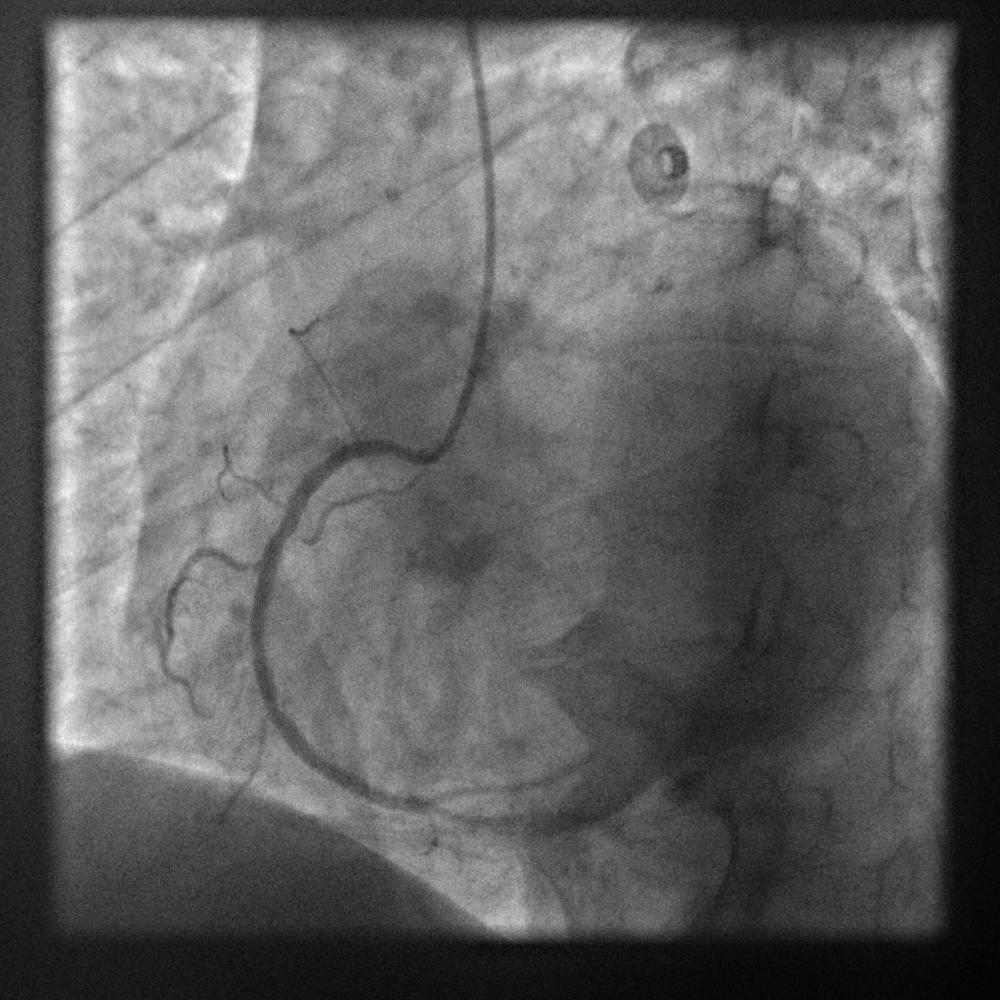Stenosis: (262, 491, 305, 546)
